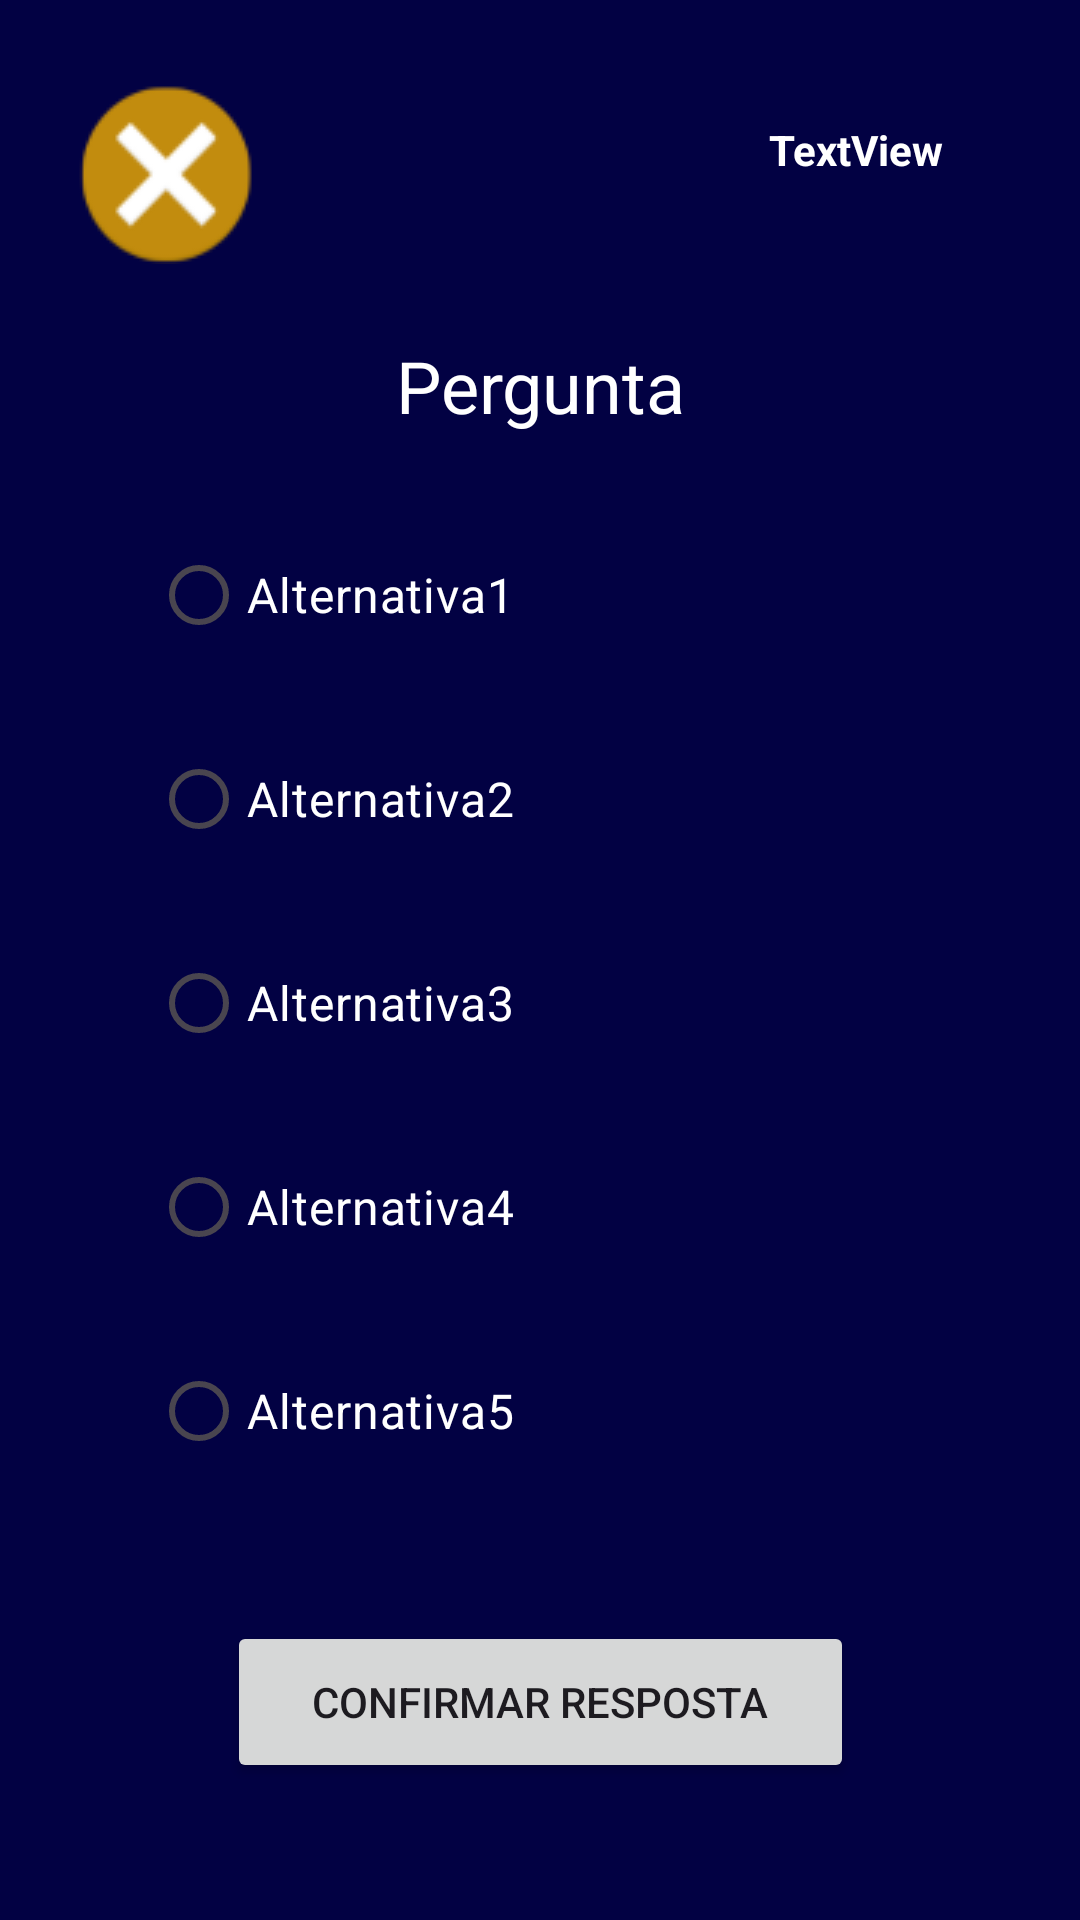

Icon bounding boxes for this 1080w x 1920h phone screenshot, format (x1,y1,x2,y2):
voltar: (82,86,252,262)
